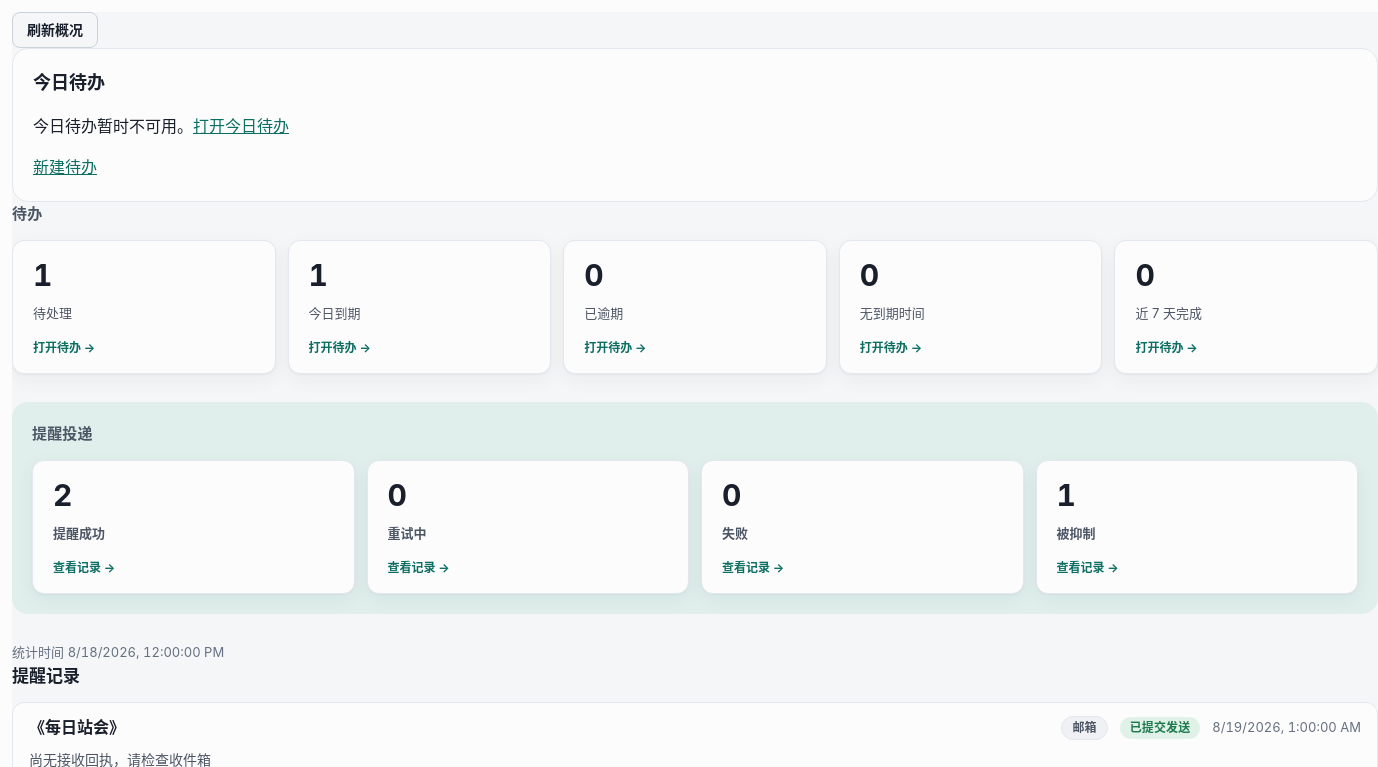
refetches reminder records by the selected status and resets to all records
The width and height of the screenshot is (1378, 767).
Expected: the text "《每日站会》" is shown, [29, 717, 125, 737]
Click the button "0 失败 查看记录 →". click: [753, 567]
box: [701, 460, 1024, 594]
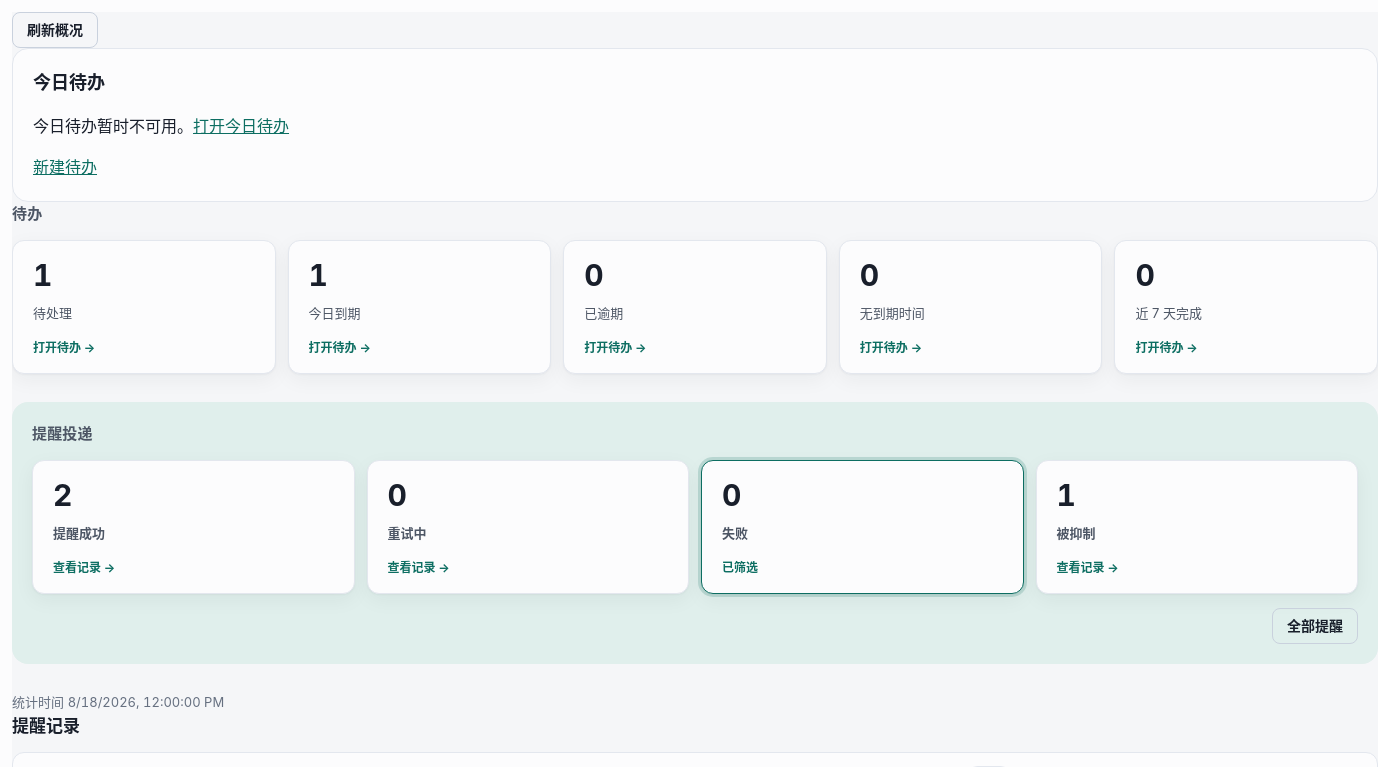
Expected: the text "《每日站会》" is gone
Click the button "全部提醒". click: [1315, 626]
box: [1272, 608, 1358, 644]
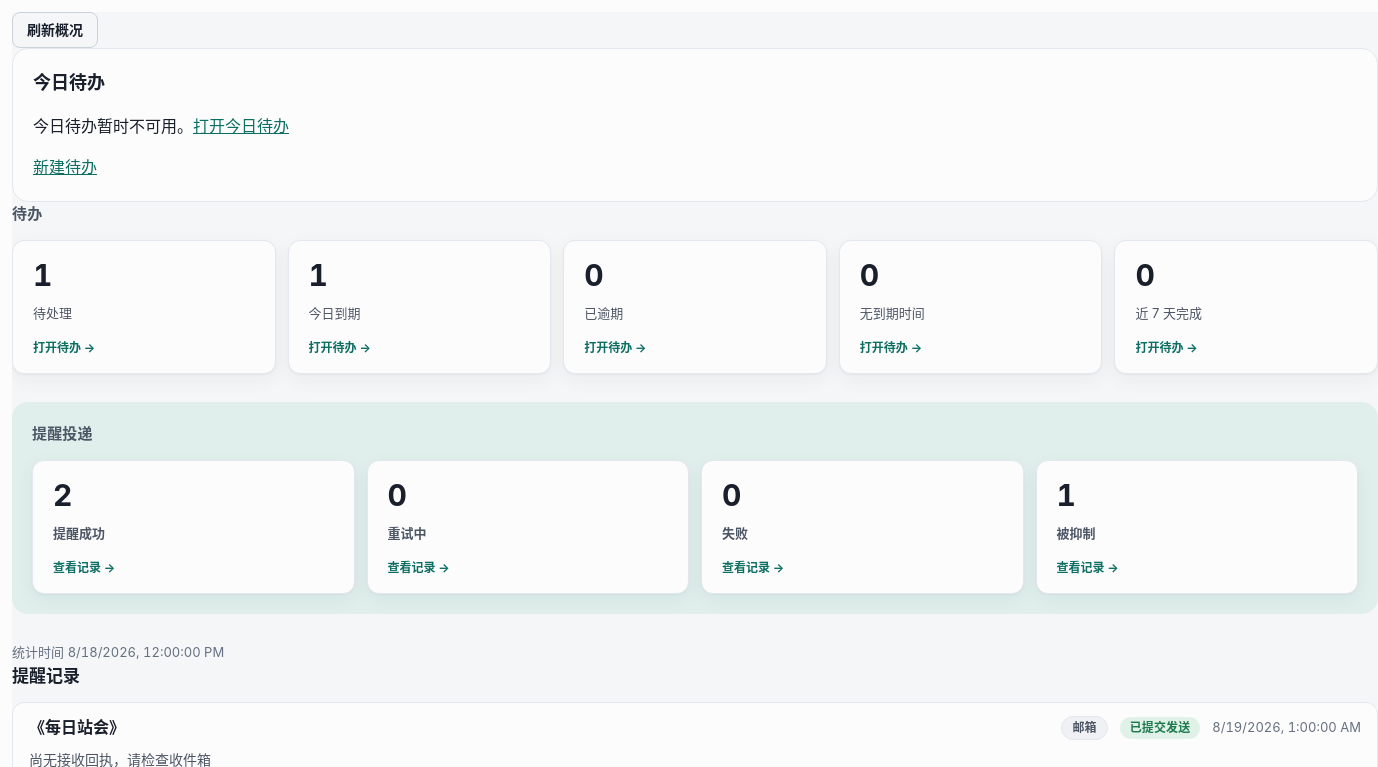
Expected: the text "《每日站会》" is shown, [29, 717, 125, 737]
